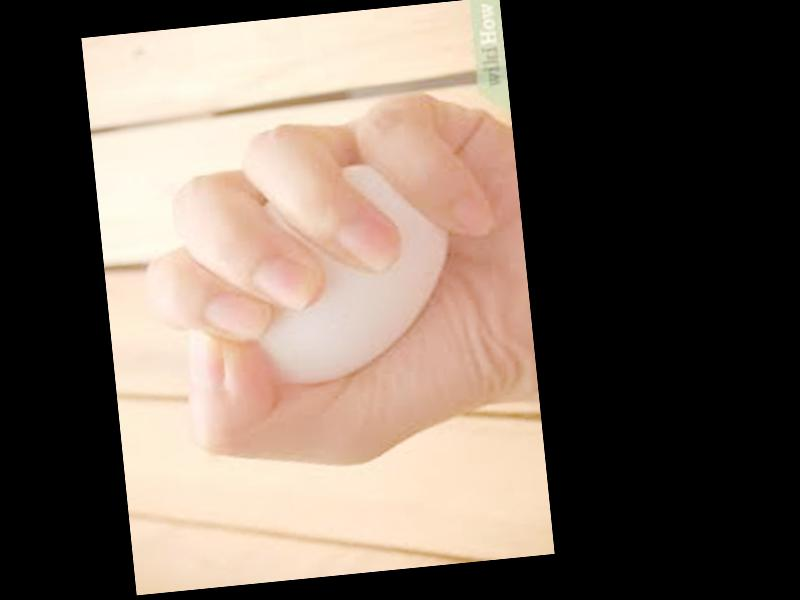Eggs: (219, 153, 460, 390)
